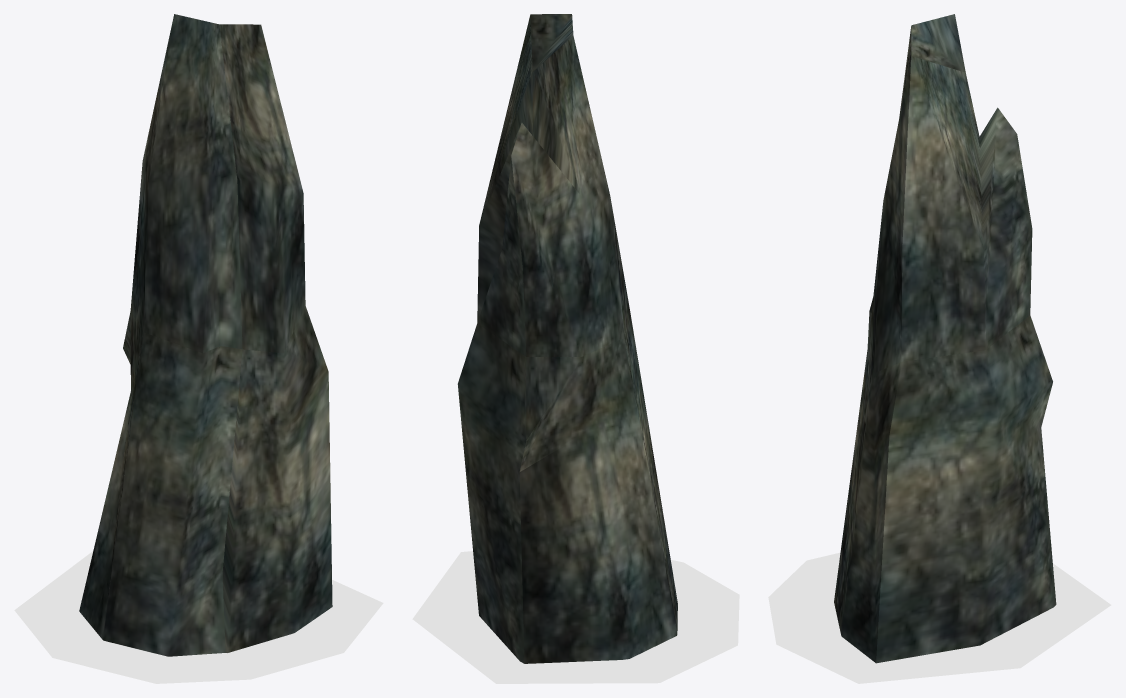
File: pir_m_prp_ocn_rock_c.fbx
The picture shows the model from 3 angles, left to right: view 1: azimuth 30°, elevation 25°; view 2: azimuth 150°, elevation 25°; view 3: azimuth 270°, elevation 25°; orthographic projection.
Parts seen in each view (by area): view 1: rock, wave; view 2: rock, wave; view 3: rock, wave.
Boxes of the visible parts, x1,y1,x2,y2 form: rock: [79, 14, 332, 656]; wave: [14, 551, 383, 683]; rock: [457, 14, 677, 663]; wave: [412, 551, 739, 683]; rock: [834, 14, 1056, 663]; wave: [768, 552, 1111, 683].
Bounding box in the file's own units: 1676 × 3218 × 1640.
2 materials, 2 textured.
